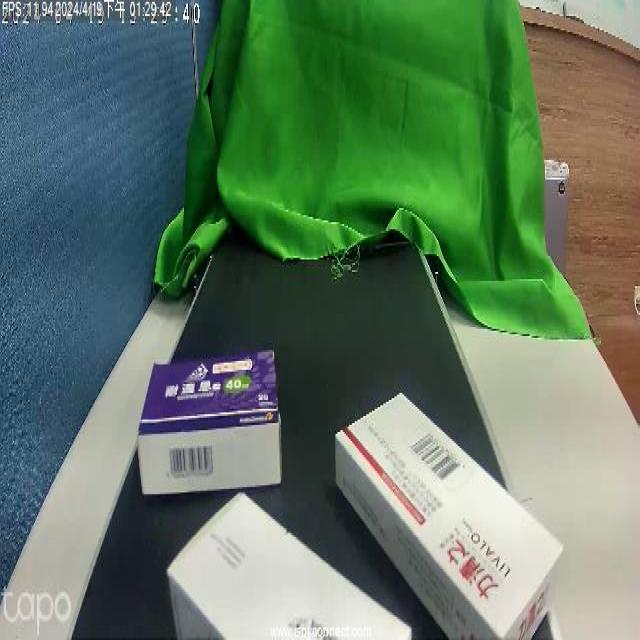box: (345, 429, 526, 601), (144, 331, 283, 508), (162, 524, 352, 640)
